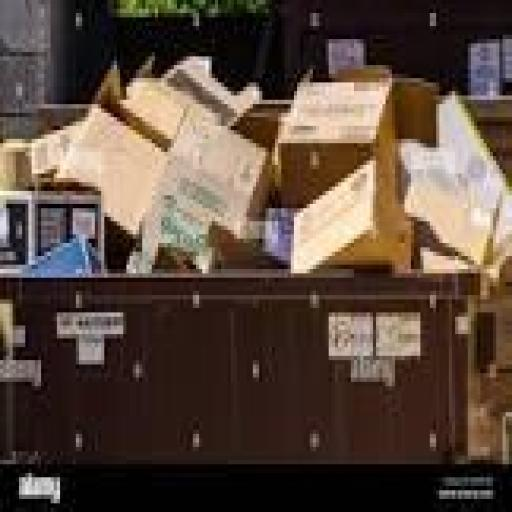poubelle_pleine: (14, 48, 503, 497)
